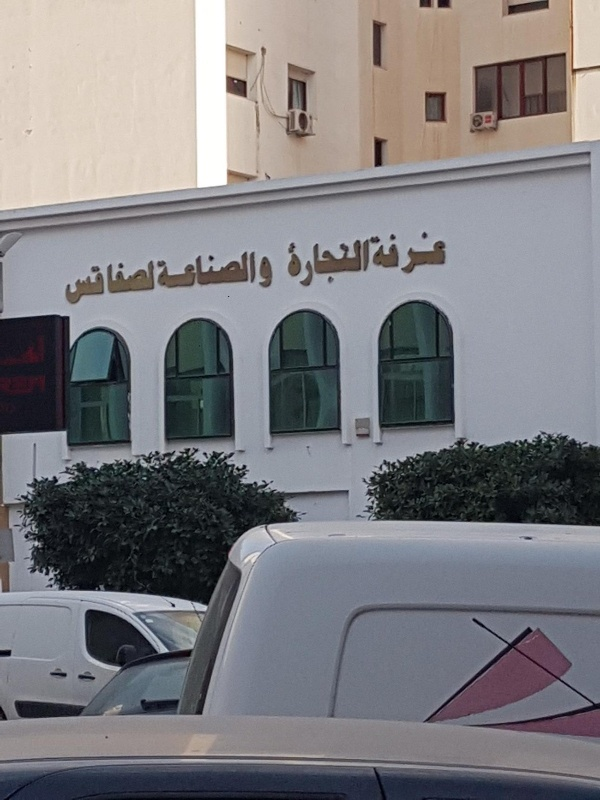text: (289, 239, 304, 291), (305, 239, 320, 291), (321, 239, 336, 291), (337, 239, 352, 291), (353, 239, 368, 291), (81, 260, 96, 305), (97, 260, 112, 305), (113, 260, 128, 305), (129, 260, 144, 305), (385, 232, 400, 274), (401, 232, 416, 274), (417, 232, 432, 274), (241, 250, 257, 288), (370, 232, 384, 274), (433, 232, 447, 274), (67, 260, 80, 305), (161, 250, 176, 288), (177, 250, 192, 288), (193, 250, 208, 288), (209, 250, 224, 288), (225, 250, 240, 288), (145, 260, 156, 305), (258, 257, 272, 288), (285, 239, 288, 291), (156, 250, 160, 288), (369, 239, 371, 291)
